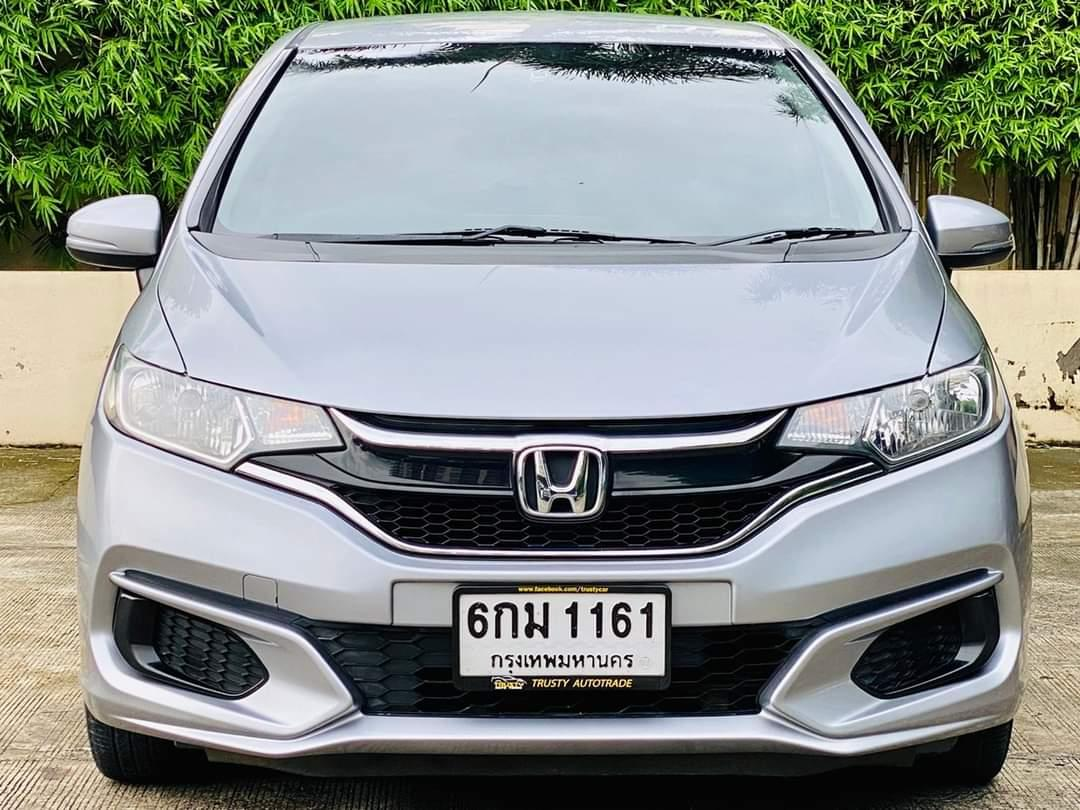license-plate: (450, 583, 675, 692)
